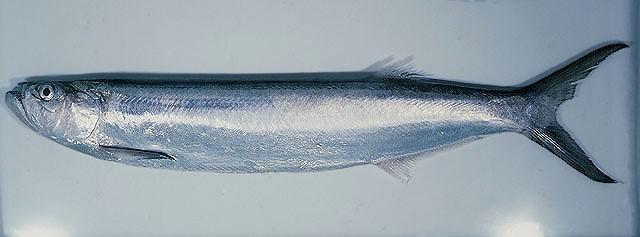Indo-Pacific Tarpon: (7, 52, 622, 186)
